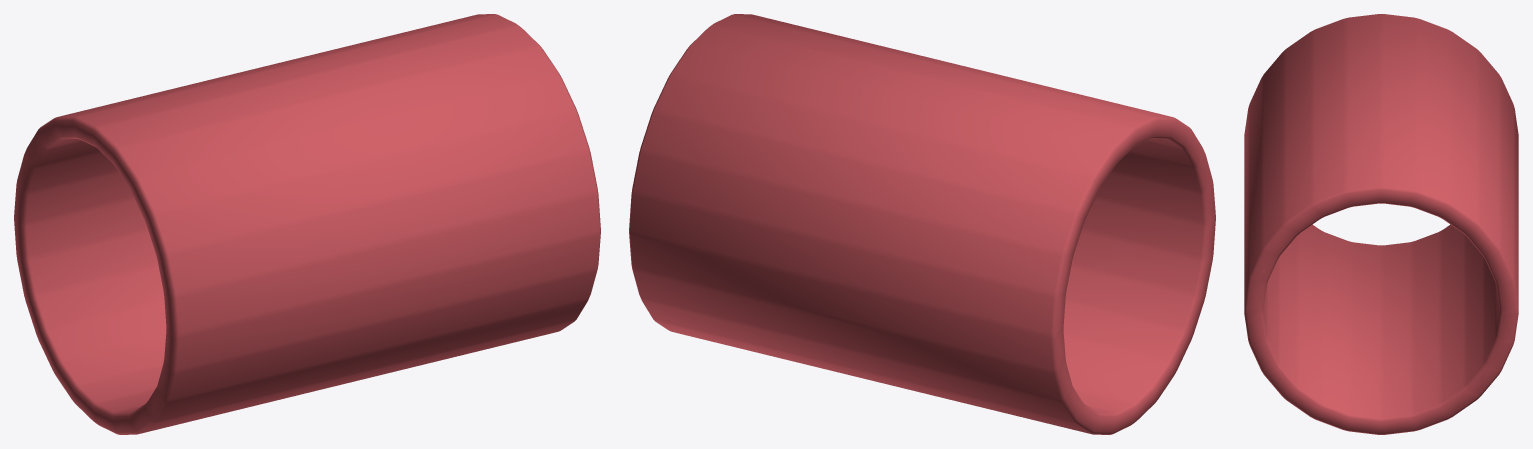
File: ConductoVena.fbx
The picture shows the model from 3 angles, left to right: view 1: azimuth 30°, elevation 25°; view 2: azimuth 150°, elevation 25°; view 3: azimuth 270°, elevation 25°; orthographic projection. The views are drawn at different scales.
Visible parts, largest first — view 1: ConductoVena; view 2: ConductoVena; view 3: ConductoVena.
Boxes of the visible parts, x1,y1,x2,y2 form: ConductoVena: [14, 14, 600, 434]; ConductoVena: [629, 14, 1215, 434]; ConductoVena: [1244, 14, 1518, 434].
Size of the model in its own units: 600 by 399 by 399.
